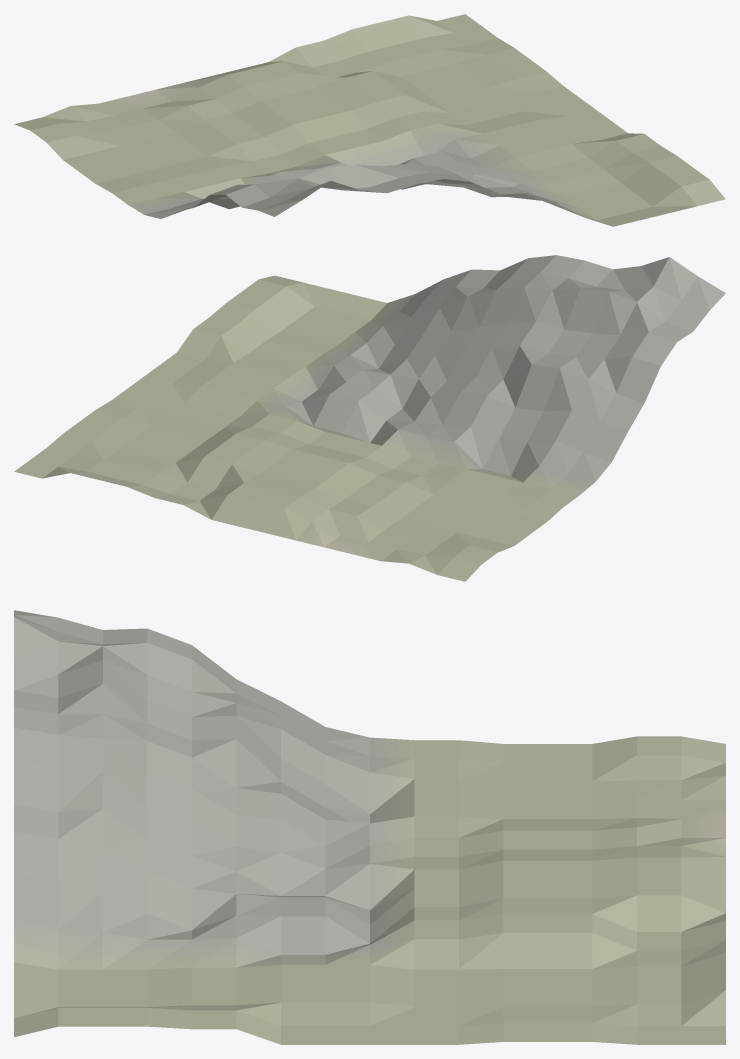
3 renders of one model, top to bottom at view 1: azimuth 30°, elevation 25°; view 2: azimuth 150°, elevation 25°; view 3: azimuth 270°, elevation 25°, orthographic. The views are drawn at different scales.
Bounding box in the file's own units: 32 × 8.96 × 32.
